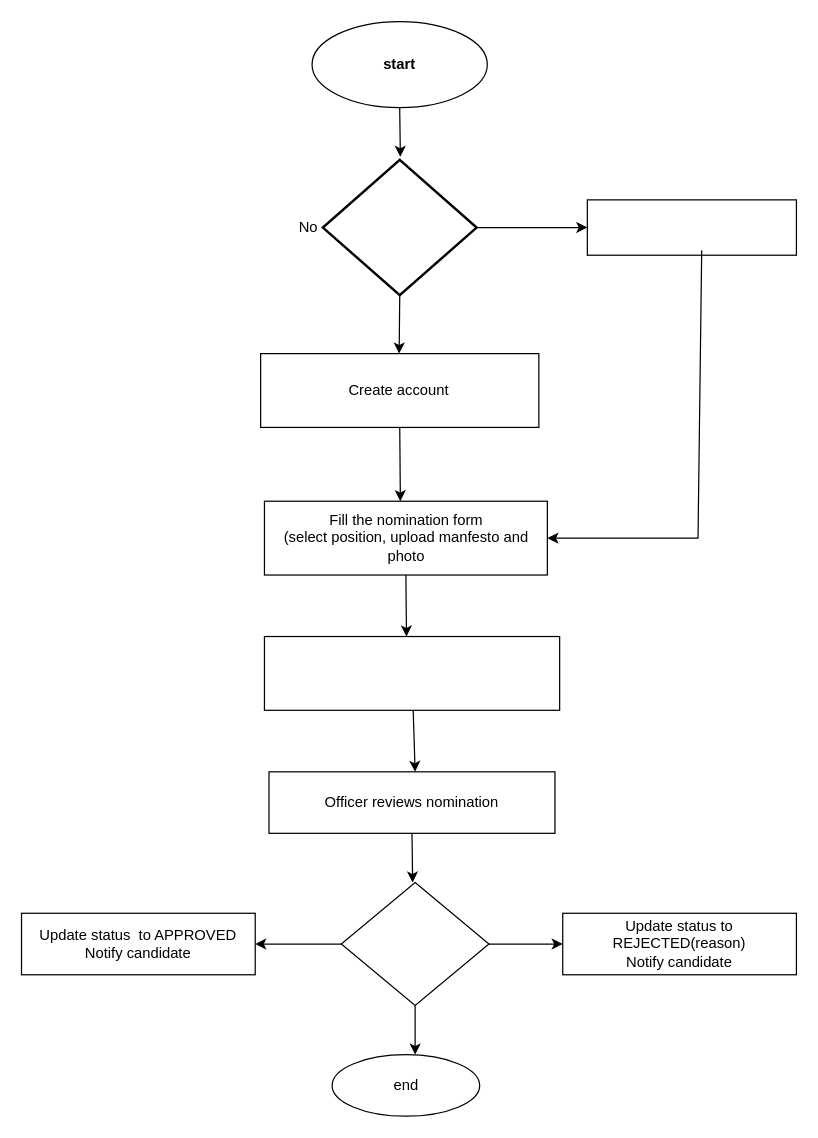
This 818x1138 diagram has some shape labels left out. The centre of each missing label's shape, as x and y in pixels:
Already registered?: point 399,227
Approve nomination?: point 414,943
Fill the Registration form (Name,Reg no.,Email,Password): point 691,227
System records audit Audit log :nomination Nomination submitted: point 411,672
